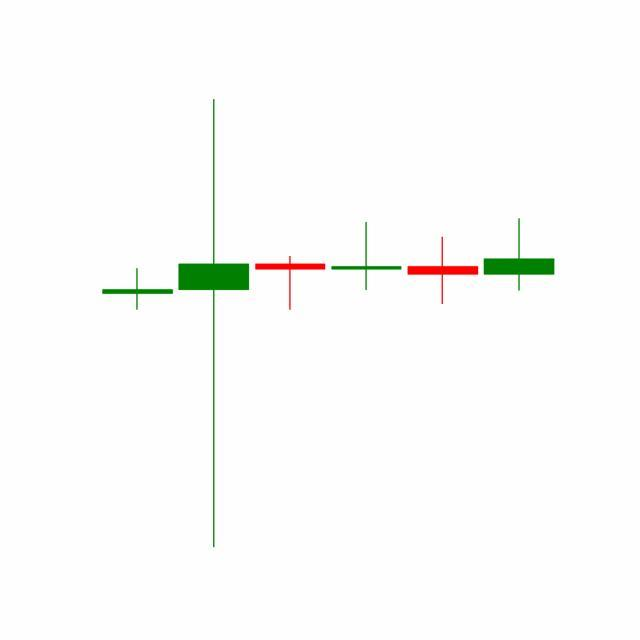Spinning Top: (404, 236, 482, 306)
